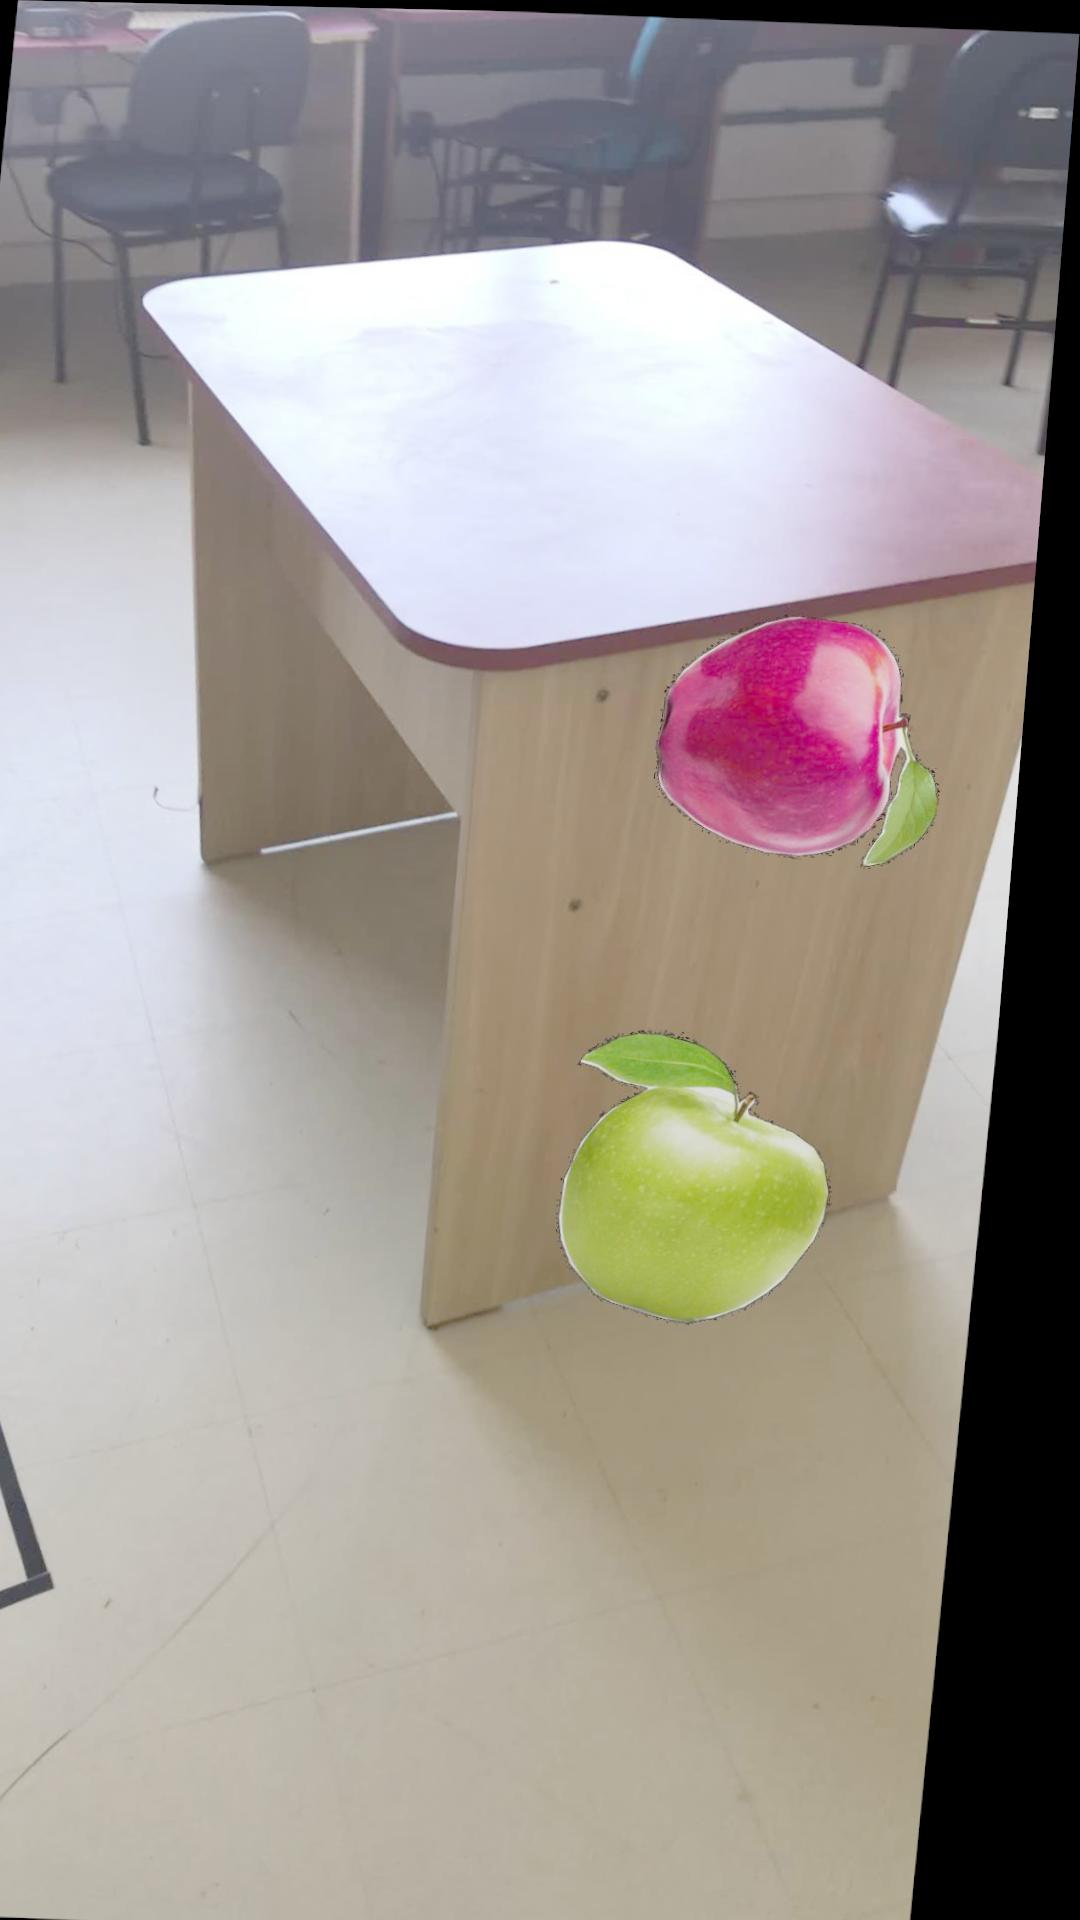apple: (666, 609, 949, 860)
green apple: (575, 1025, 849, 1319)
